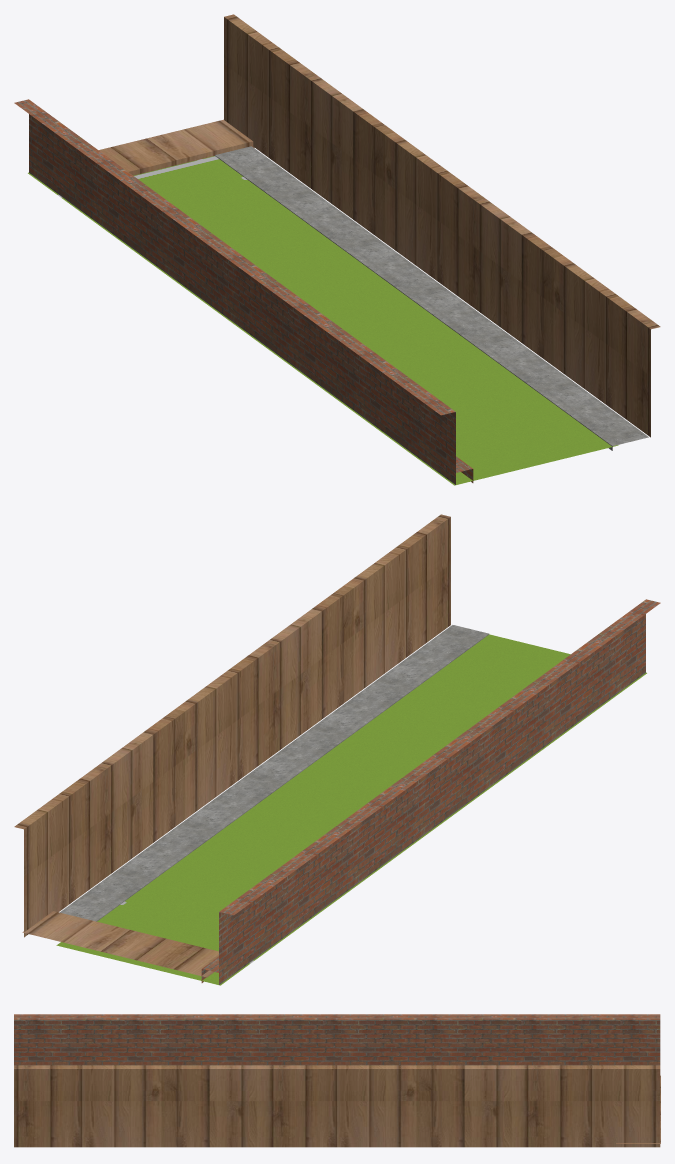
3 views of the same model, one above another, from view 1: azimuth 30°, elevation 25°; view 2: azimuth 150°, elevation 25°; view 3: azimuth 270°, elevation 25° (orthographic). The views are drawn at different scales.
Visible parts, largest first — view 1: 6 bg.001, 6 bg, 6 bg.002, 6 bg.005, 6 bg.004; view 2: 6 bg.001, 6 bg, 6 bg.002, 6 bg.005, 6 bg.004; view 3: 6 bg.001, 6 bg.002.
Boxes of the visible parts, x1,y1,x2,y2 form: 6 bg.001: [224, 14, 660, 437]; 6 bg: [28, 156, 618, 485]; 6 bg.002: [14, 99, 455, 484]; 6 bg.005: [215, 146, 648, 450]; 6 bg.004: [98, 119, 254, 175]; 6 bg.001: [14, 514, 450, 937]; 6 bg: [56, 634, 646, 985]; 6 bg.002: [219, 599, 660, 984]; 6 bg.005: [60, 625, 489, 921]; 6 bg.004: [22, 911, 218, 977]; 6 bg.001: [14, 1065, 660, 1147]; 6 bg.002: [14, 1014, 660, 1065].
Bounding box in the file's own units: 15.9 × 7.77 × 53.51.
Materials: 1 (1 with a texture image).
